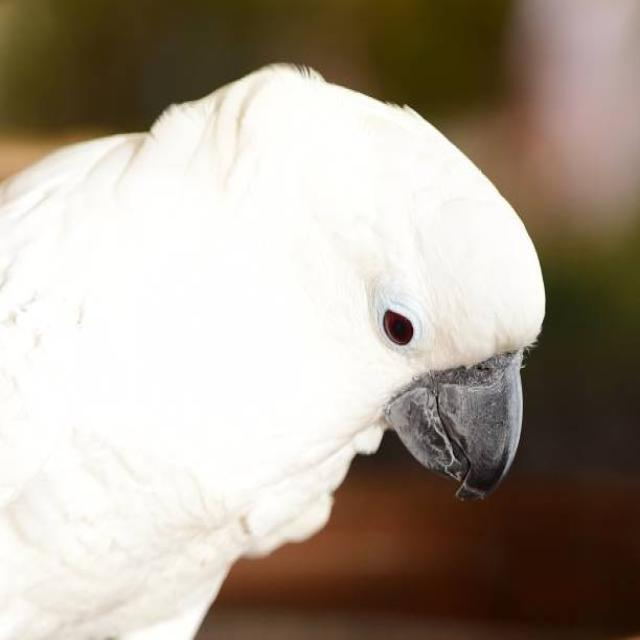Kakatua Putih: (0, 38, 559, 640)
